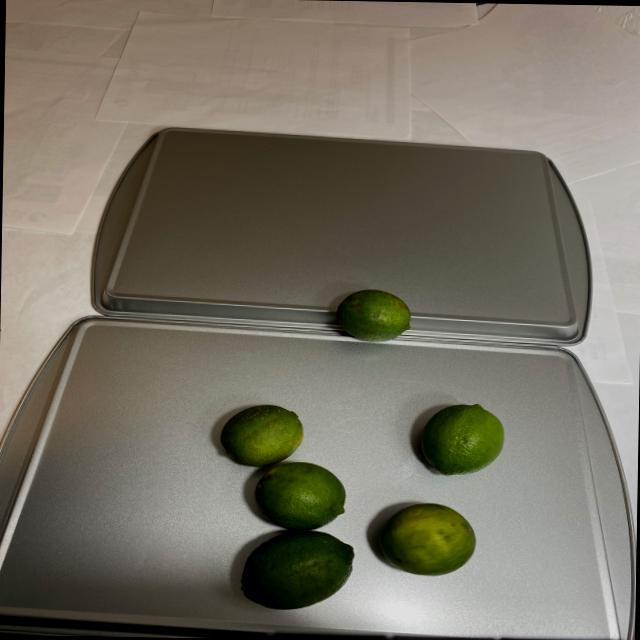lemon: (192, 395, 512, 613), (329, 288, 413, 348)
